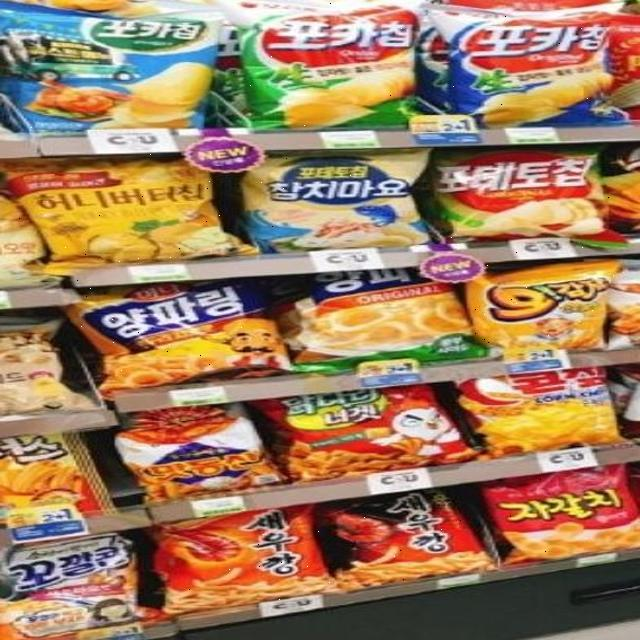product: (7, 154, 220, 280), (8, 8, 201, 142), (227, 2, 419, 129), (437, 4, 620, 129), (68, 280, 283, 386), (240, 149, 434, 257), (437, 148, 609, 257), (160, 496, 331, 601), (501, 464, 639, 572), (467, 258, 617, 355), (340, 496, 490, 580)
